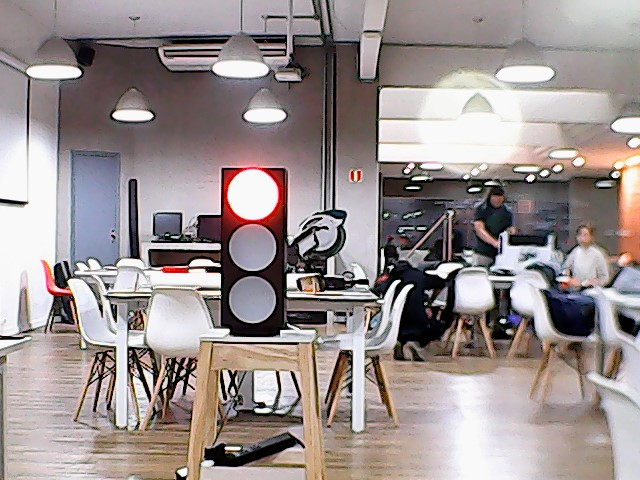vermelho: (218, 164, 292, 337)
